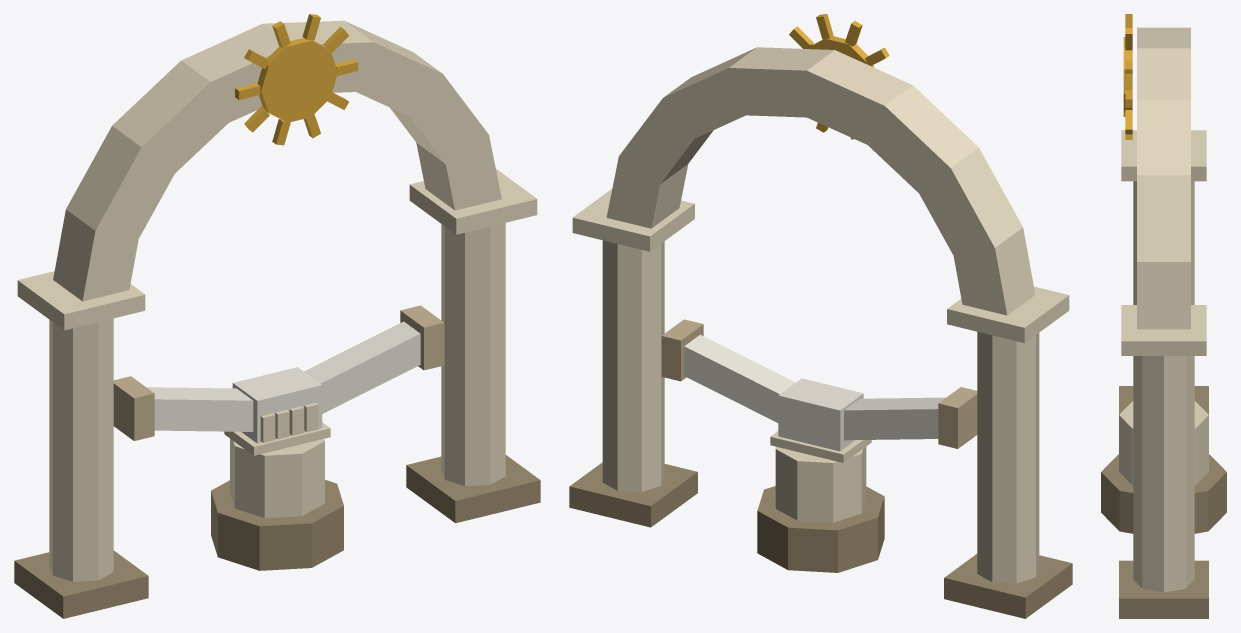
File: Monument_ArchOfAlliance.fbx
The picture shows the model from 3 angles, left to right: view 1: azimuth 30°, elevation 25°; view 2: azimuth 150°, elevation 25°; view 3: azimuth 270°, elevation 25°; orthographic projection. The views are drawn at different scales.
Visible parts, largest first — view 1: Monument_ArchOfAlliance; view 2: Monument_ArchOfAlliance; view 3: Monument_ArchOfAlliance.
Boxes of the visible parts, box(x1,y1,x2,y2) form: Monument_ArchOfAlliance: box(14, 14, 540, 618); Monument_ArchOfAlliance: box(569, 14, 1072, 618); Monument_ArchOfAlliance: box(1101, 14, 1226, 618).
Bounding box in the file's own units: 5.6 × 6.03 × 1.4.
